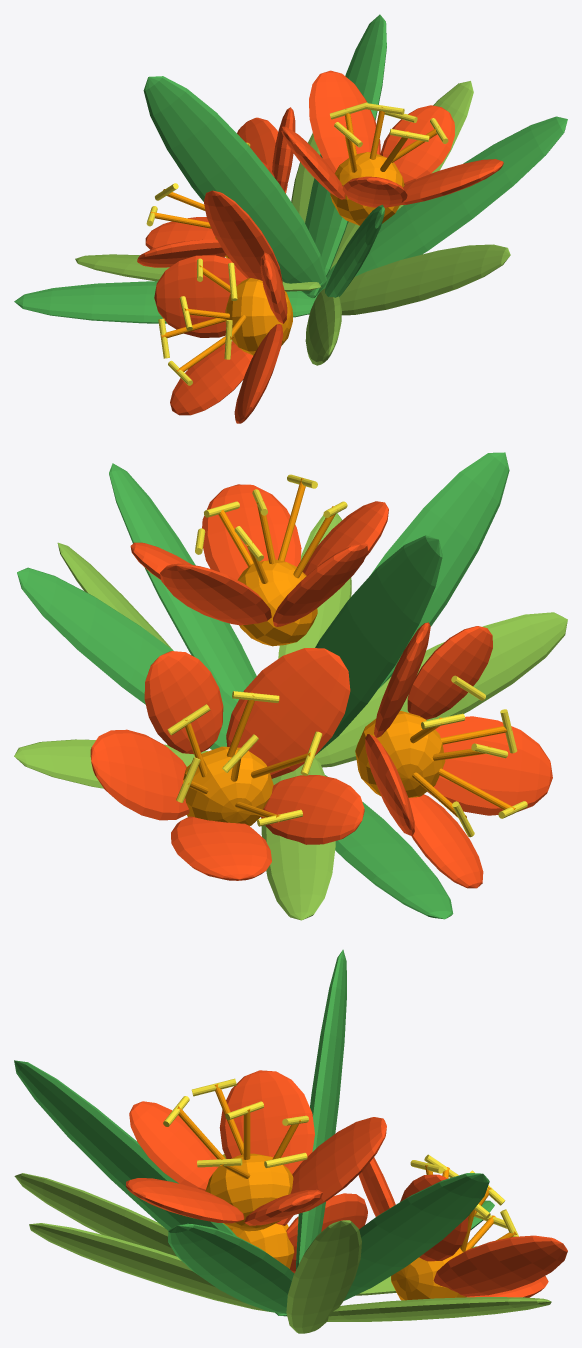
The model's file is plant39.glb.
The picture shows the model from 3 angles, top to bottom: view 1: azimuth 30°, elevation 25°; view 2: azimuth 150°, elevation 25°; view 3: azimuth 270°, elevation 25°; orthographic projection. The views are drawn at different scales.
Parts seen in each view (by area): view 1: group1492169187, group1151237140, group315801987, group881273782, group1969634432, group885398364, group1719653840, group1445352699, group1598799048, group1357302178, group10601268, group980808085 (+14 smaller); view 2: group1492169187, group186309208, group1969634432, group1859036192, group1151237140, group1391657450, group1558828722, group1653453548, group881273782, group432241109, group1495573334, group980808085 (+18 smaller); view 3: group1969634432, group1859036192, group1151237140, group1644941578, group323631584, group1653453548, group1492169187, group315801987, group1558828722, group1719653840, group1034471859, group1655284791 (+9 smaller).
Part boxes in pixels (x1=…): group1492169187: x1=143, y1=76, x2=326, y2=293; group1151237140: x1=316, y1=116, x2=567, y2=295; group315801987: x1=339, y1=244, x2=510, y2=315; group881273782: x1=14, y1=281, x2=316, y2=323; group1969634432: x1=303, y1=14, x2=386, y2=298; group885398364: x1=154, y1=255, x2=247, y2=337; group1719653840: x1=309, y1=70, x2=380, y2=173; group1445352699: x1=204, y1=190, x2=282, y2=282; group1598799048: x1=170, y1=341, x2=252, y2=415; group1357302178: x1=380, y1=105, x2=454, y2=184; group10601268: x1=225, y1=278, x2=293, y2=355; group980808085: x1=398, y1=159, x2=503, y2=205; group1492169187: x1=315, y1=535, x2=442, y2=755; group186309208: x1=226, y1=648, x2=350, y2=778; group1969634432: x1=17, y1=567, x2=237, y2=749; group1859036192: x1=371, y1=452, x2=509, y2=688; group1151237140: x1=109, y1=463, x2=256, y2=702; group1391657450: x1=427, y1=716, x2=552, y2=815; group1558828722: x1=315, y1=612, x2=567, y2=767; group1653453548: x1=90, y1=729, x2=189, y2=820; group881273782: x1=325, y1=775, x2=453, y2=919; group432241109: x1=144, y1=651, x2=223, y2=754; group1495573334: x1=261, y1=775, x2=364, y2=844; group980808085: x1=202, y1=484, x2=301, y2=579; group1969634432: x1=344, y1=1173, x2=489, y2=1300; group1859036192: x1=14, y1=1060, x2=235, y2=1235; group1151237140: x1=168, y1=1223, x2=294, y2=1313; group1644941578: x1=219, y1=1070, x2=314, y2=1174; group323631584: x1=286, y1=1220, x2=361, y2=1333; group1653453548: x1=433, y1=1235, x2=567, y2=1296; group1492169187: x1=296, y1=949, x2=346, y2=1269; group315801987: x1=29, y1=1223, x2=273, y2=1312; group1558828722: x1=14, y1=1173, x2=176, y2=1256; group1719653840: x1=290, y1=1117, x2=386, y2=1214; group1034471859: x1=129, y1=1101, x2=218, y2=1190; group1655284791: x1=327, y1=1297, x2=551, y2=1321.
Size of the model in its own units: 0.4909 by 0.3536 by 0.4965.
